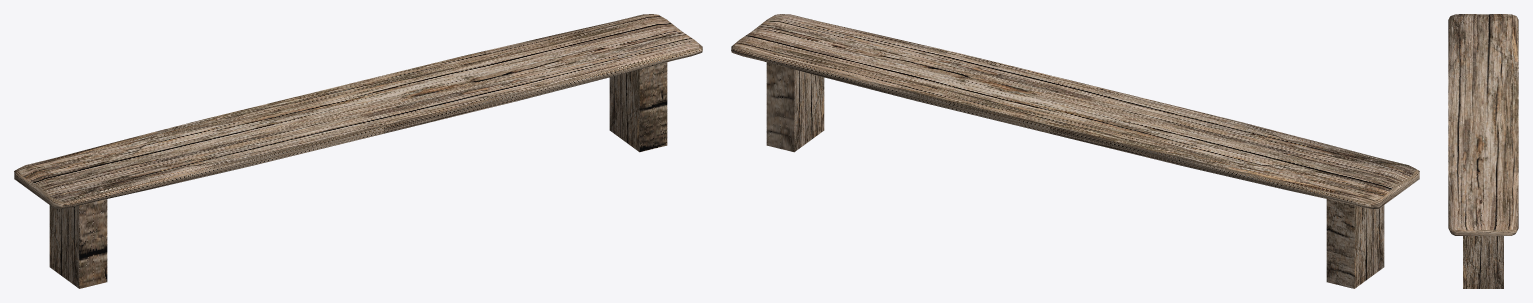
Rendered from banco.fbx.
The picture shows the model from 3 angles, left to right: view 1: azimuth 30°, elevation 25°; view 2: azimuth 150°, elevation 25°; view 3: azimuth 270°, elevation 25°; orthographic projection. The views are drawn at different scales.
Parts seen in each view (by area): view 1: Box001; view 2: Box001; view 3: Box001.
Boxes of the visible parts, <box> form: Box001: <box>14,14,702,288</box>; Box001: <box>731,14,1419,288</box>; Box001: <box>1448,14,1518,288</box>.
Bounding box in the file's own units: 330 × 48.57 × 45.16.
Materials: 1 (1 with a texture image).
